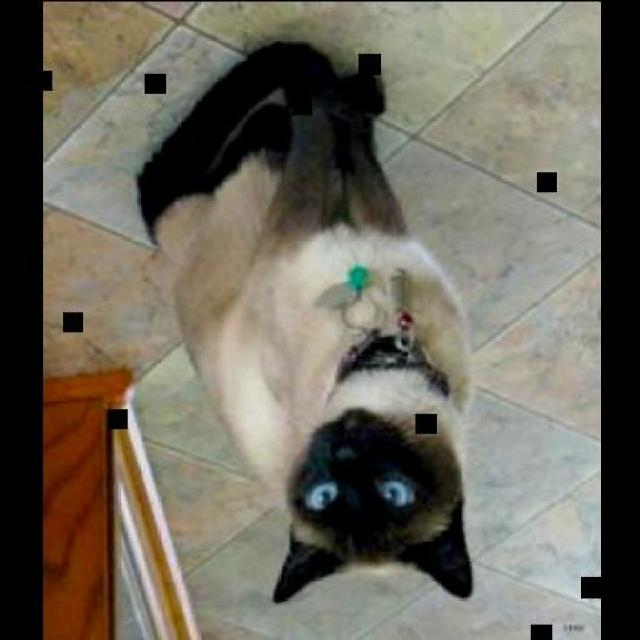unauthorized: (134, 39, 474, 603)
